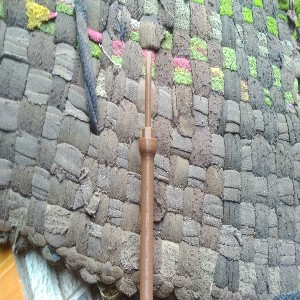obeng: (137, 51, 158, 300)
